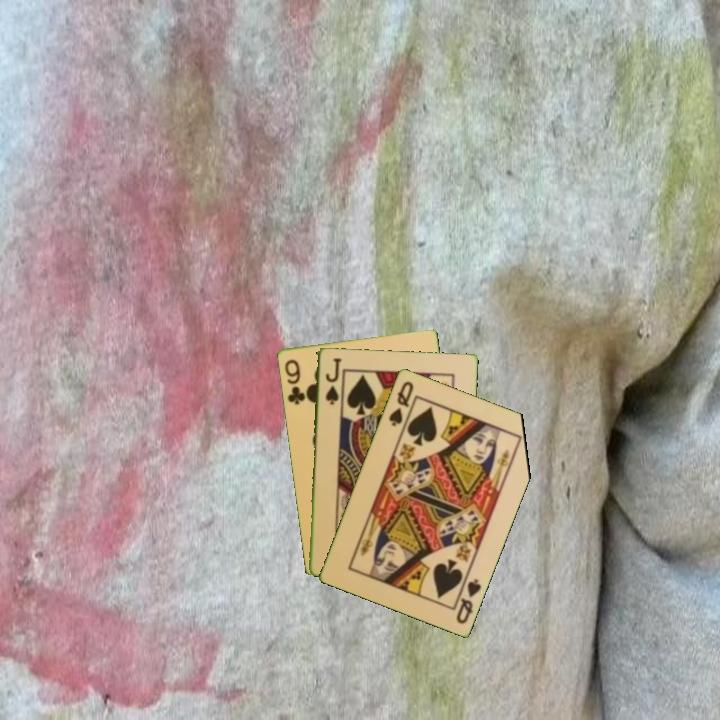9c: (281, 355, 308, 407)
Js: (322, 354, 342, 407)
Qs: (385, 377, 416, 429), (453, 575, 484, 626)
